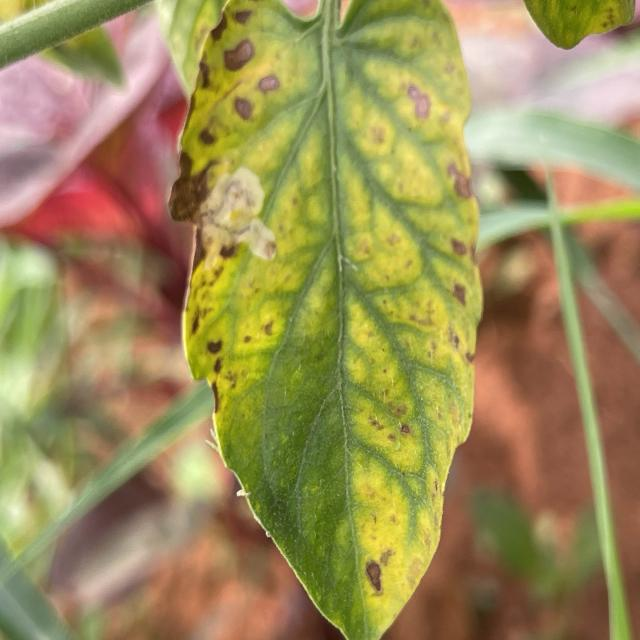tomato_early blight: (169, 0, 483, 639)
